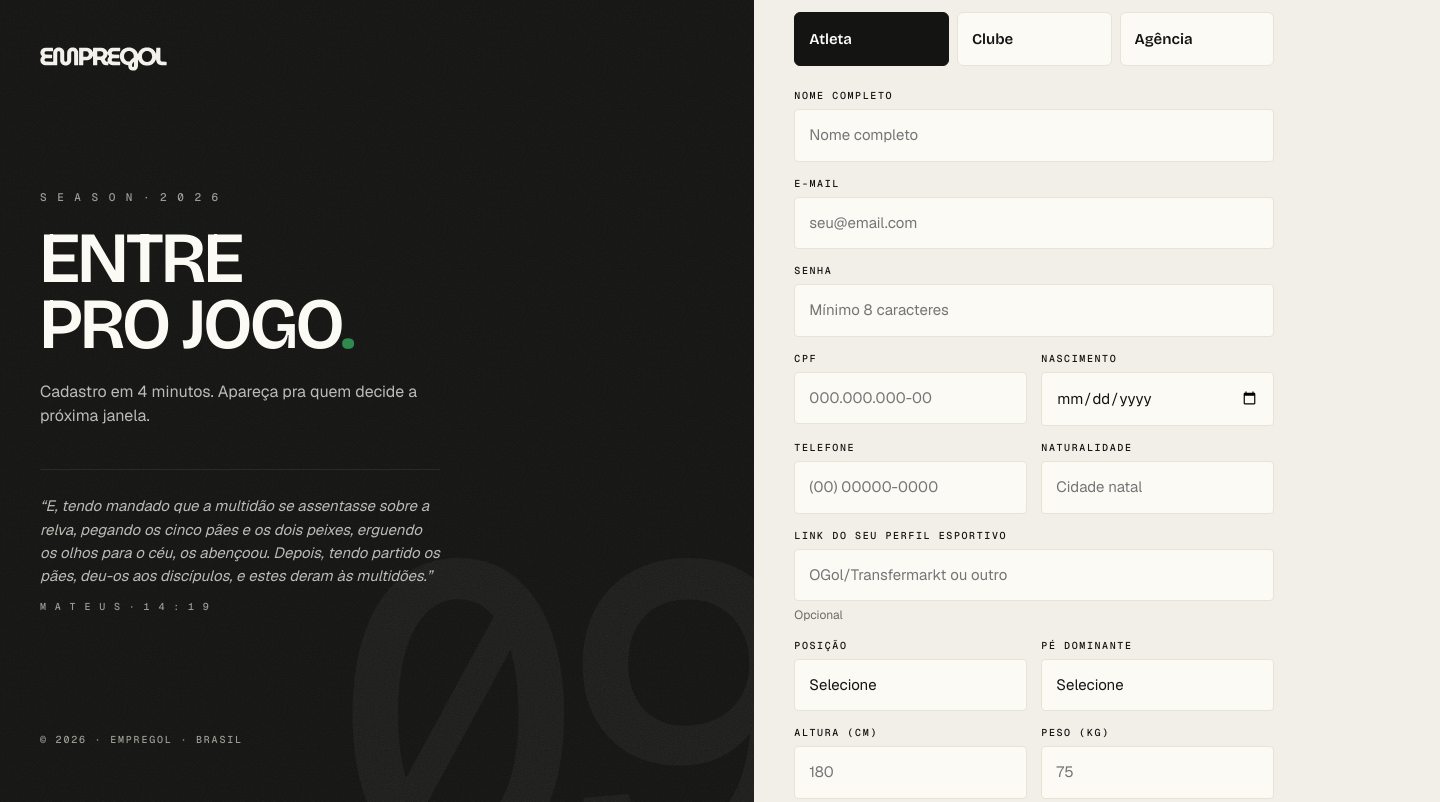
Test: AuthPage › aplica máscara de CPF enquanto digita
(page scrolled)
Type "12345678901" into the field labelled "CPF" at [911, 398], box [794, 372, 1027, 424]
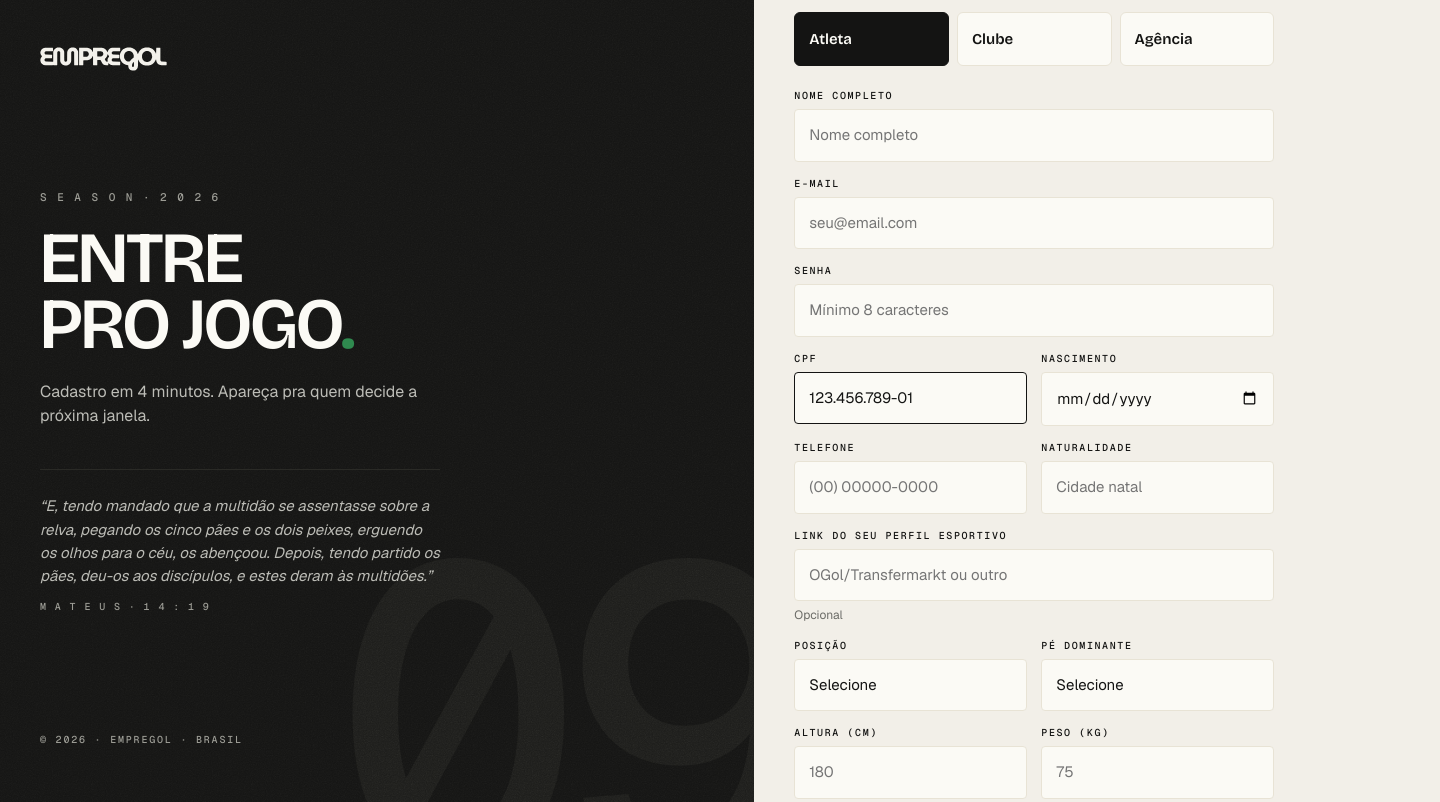
Check: the field labelled "CPF" holds "123.456.789-01", box [794, 372, 1027, 424]
